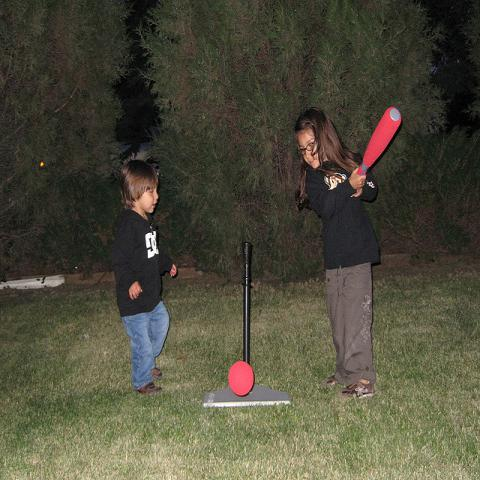car: (114, 138, 161, 180)
